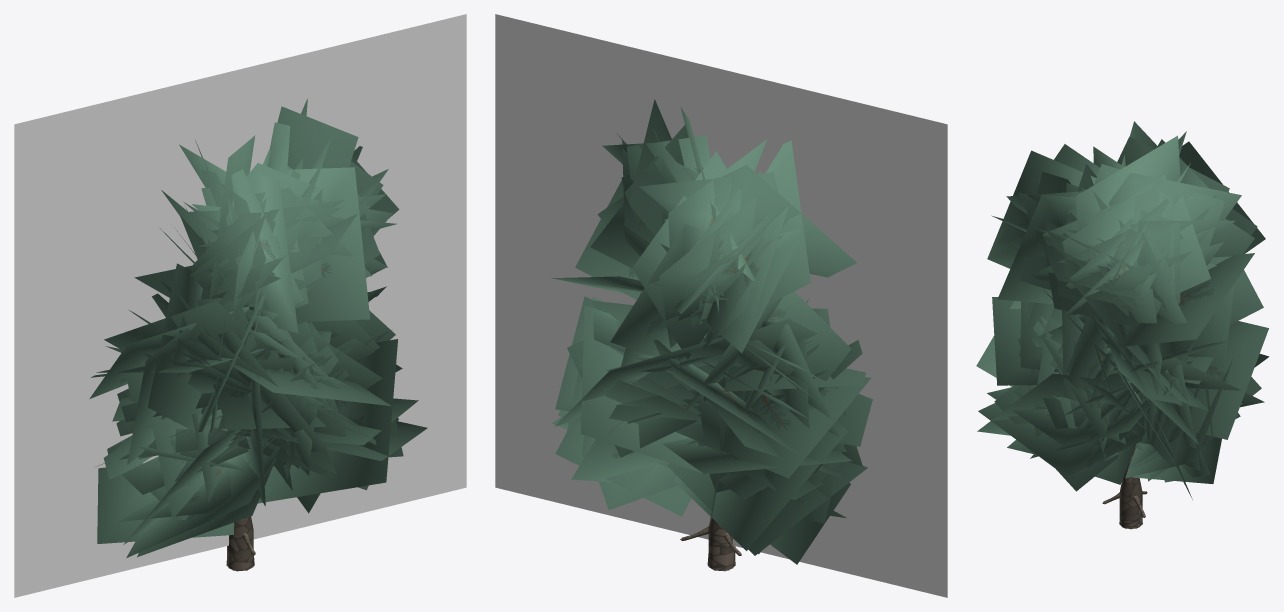
File: pin_jeune_a.fbx
3 views of the same model, side by side, from view 1: azimuth 30°, elevation 25°; view 2: azimuth 150°, elevation 25°; view 3: azimuth 270°, elevation 25° (orthographic). The views are drawn at different scales.
Visible parts, largest first — view 1: pin_jeune_a_LOD3, pin_jeune_a_LOD1; view 2: pin_jeune_a_LOD3, pin_jeune_a_LOD1; view 3: pin_jeune_a_LOD1.
Boxes of the visible parts, x1,y1,x2,y2 form: pin_jeune_a_LOD3: (14, 14, 466, 597); pin_jeune_a_LOD1: (89, 98, 427, 571); pin_jeune_a_LOD3: (495, 14, 947, 597); pin_jeune_a_LOD1: (551, 99, 872, 571); pin_jeune_a_LOD1: (976, 121, 1269, 529).
Size of what is drawn, in the model's own units: 4.49 by 4.71 by 3.
